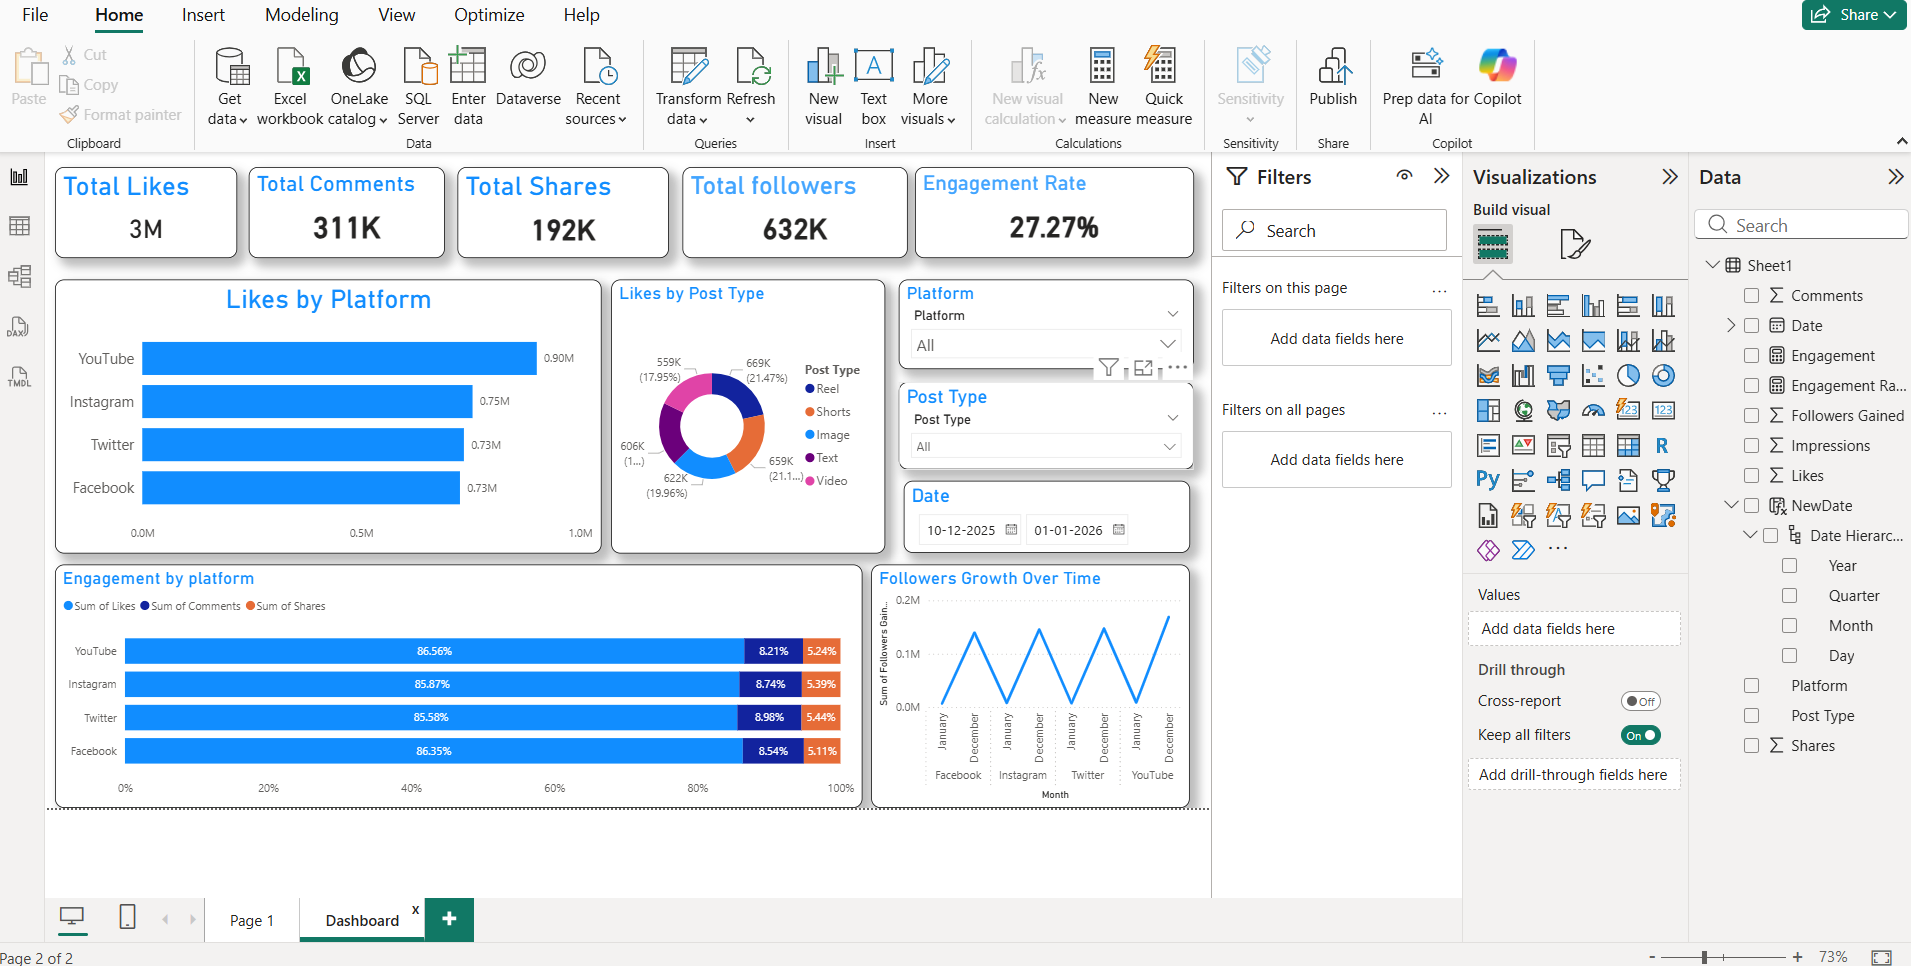

Layout of this report page (visuals, bound fields, positions):
{"tool":"powerbi","page":{"name":"Dashboard","canvas":[1280,720],"ordinal":1},"visuals":[{"type":"card","title":"Total Likes","fields":{"Values":["Sum(Sheet1.Likes)"]},"box":[11,16.5,200.3,100.2],"z":0},{"type":"card","title":"Total Comments","fields":{"Values":["Sum(Sheet1.Comments)"]},"box":[223.7,16.5,215.4,100.2],"z":1},{"type":"card","title":"Total Shares","fields":{"Values":["Sum(Sheet1.Shares)"]},"box":[452.8,16.5,231.9,100.2],"z":2},{"type":"card","title":"Total followers","fields":{"Values":["Sum(Sheet1.Followers Gained)"]},"box":[699.8,16.5,247,100.2],"z":3},{"type":"card","title":"Engagement Rate","fields":{"Values":["Sheet1.Engagement Rate"]},"box":[955.1,16.5,306,100.2],"z":4},{"type":"clusteredBarChart","title":"Likes by Platform","fields":{"Category":["Sheet1.Platform"],"Y":["Sum(Sheet1.Likes)"]},"box":[11,140,599.7,300.5],"z":5},{"type":"donutChart","title":"Likes by Post Type","fields":{"Category":["Sheet1.Post Type"],"Y":["Sum(Sheet1.Likes)"]},"box":[621.6,140,300.5,300.5],"z":6},{"type":"slicer","title":"Platform","fields":{"Values":["Sheet1.Platform"]},"box":[937.2,140,323.8,98.8],"z":7},{"type":"slicer","title":"Post Type","fields":{"Values":["Sheet1.Post Type"]},"box":[937.2,252.5,323.8,96.1],"z":8},{"type":"slicer","title":"Date","fields":{"Values":["Sheet1.Date"]},"box":[942.7,360.9,314.2,79.6],"z":9},{"type":"hundredPercentStackedBarChart","title":"Engagement by platform","fields":{"Category":["Sheet1.Platform"],"Y":["Sum(Sheet1.Likes)","Sum(Sheet1.Comments)","Sum(Sheet1.Shares)"]},"box":[11,452.8,886.5,267.6],"z":10},{"type":"lineChart","title":"Followers Growth Over Time","fields":{"Y":["Sum(Sheet1.Followers Gained)"],"Category":["Sheet1.Platform","Sheet1.NewDate.Variation.Date Hierarchy.Month"]},"box":[907,452.8,349.9,267.6],"z":11}]}

Visuals, with their boxes on the page's 1280x720 design canvas (x1, y1, x2, y2). These are canvas units, not pixel positions in the 1911x966 screenshot, which may show the page scaled, cropped or inside an application window:
"Total Likes" card: 11/16/211/117
"Total Comments" card: 224/16/439/117
"Total Shares" card: 453/16/685/117
"Total followers" card: 700/16/947/117
"Engagement Rate" card: 955/16/1261/117
"Likes by Platform" clusteredBarChart: 11/140/611/440
"Likes by Post Type" donutChart: 622/140/922/440
"Platform" slicer: 937/140/1261/239
"Post Type" slicer: 937/252/1261/349
"Date" slicer: 943/361/1257/440
"Engagement by platform" hundredPercentStackedBarChart: 11/453/898/720
"Followers Growth Over Time" lineChart: 907/453/1257/720
